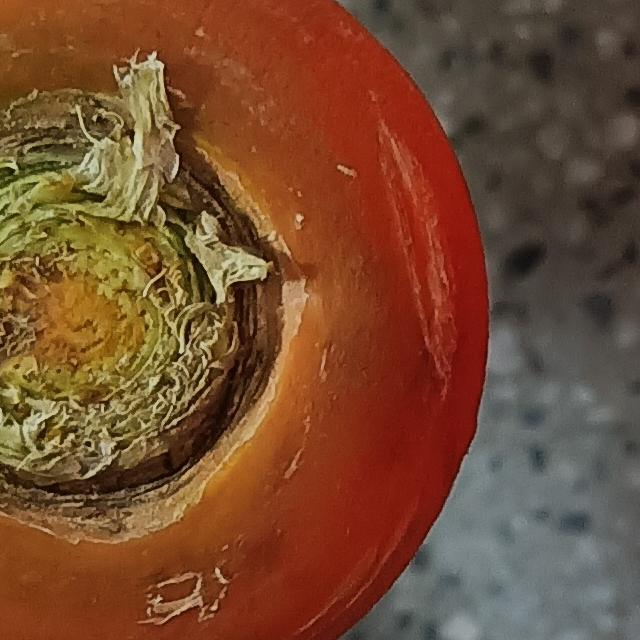carrot: (1, 1, 515, 640)
